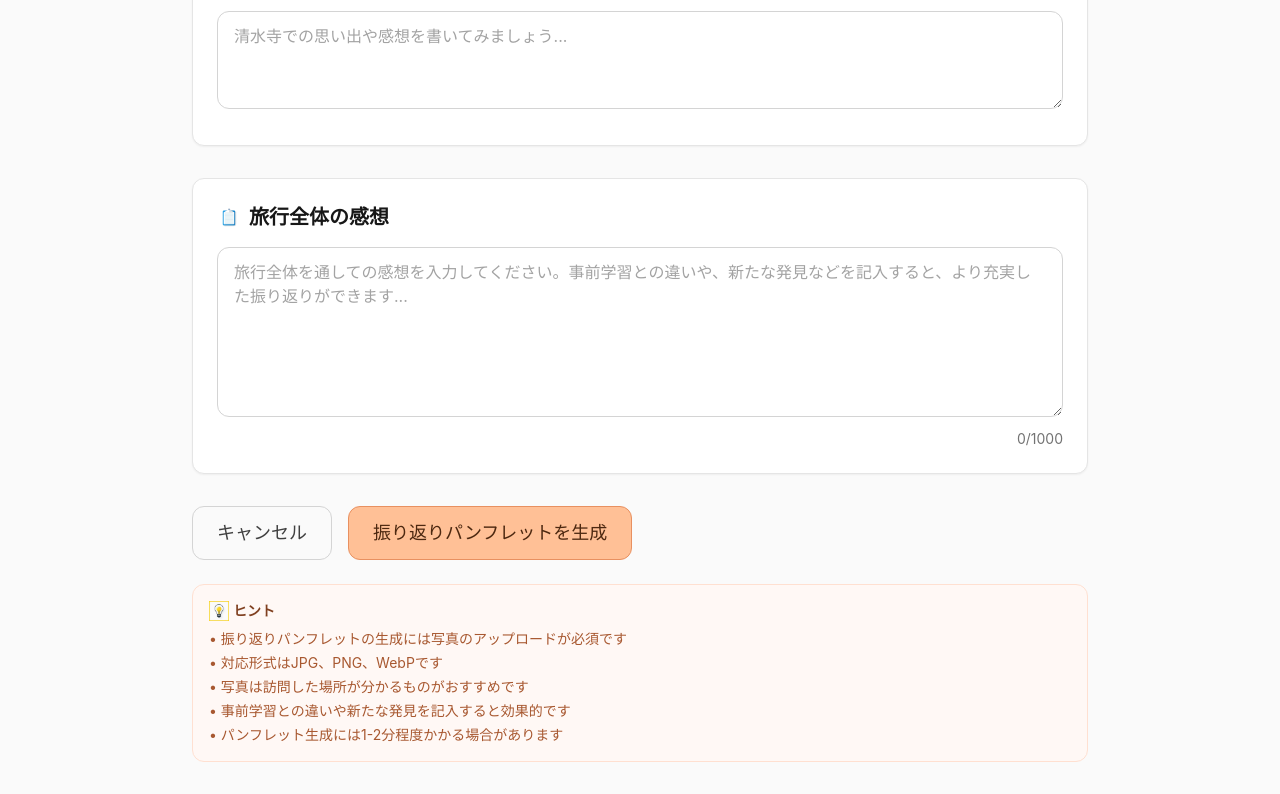
ReflectionDetailPage › 写真バリデーション › 写真なしで送信するとツールチップが表示される
This screenshot has width=1280, height=794.
(page scrolled)
// 実行: 写真を追加せずに送信ボタンをクリック
What coordinates should you click on to do the following:
click the button "振り返りパンフレットを生成"
I would click on:
 (490, 533)
Its box is top-left (348, 506), bottom-right (632, 560).
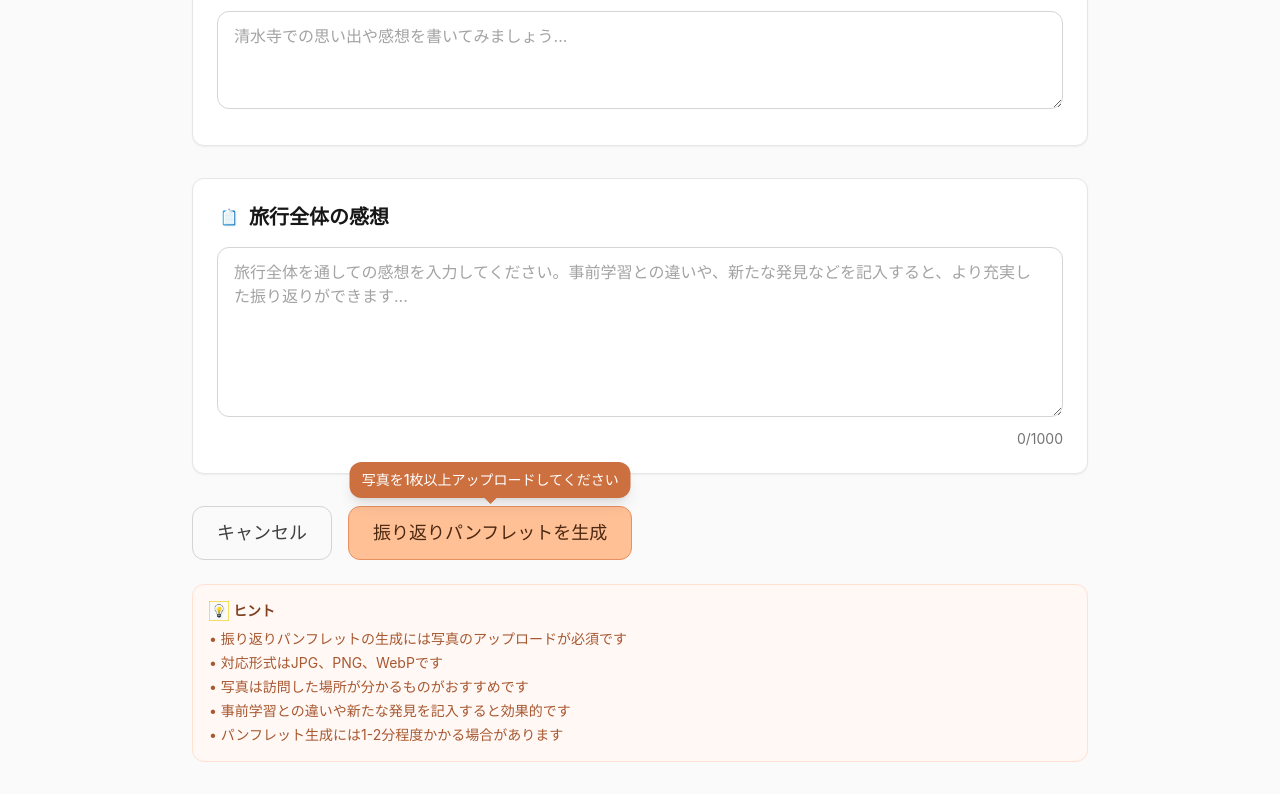
Now the tooltip "写真を1枚以上アップロードしてください" is shown, box top-left (350, 462), bottom-right (631, 498)
